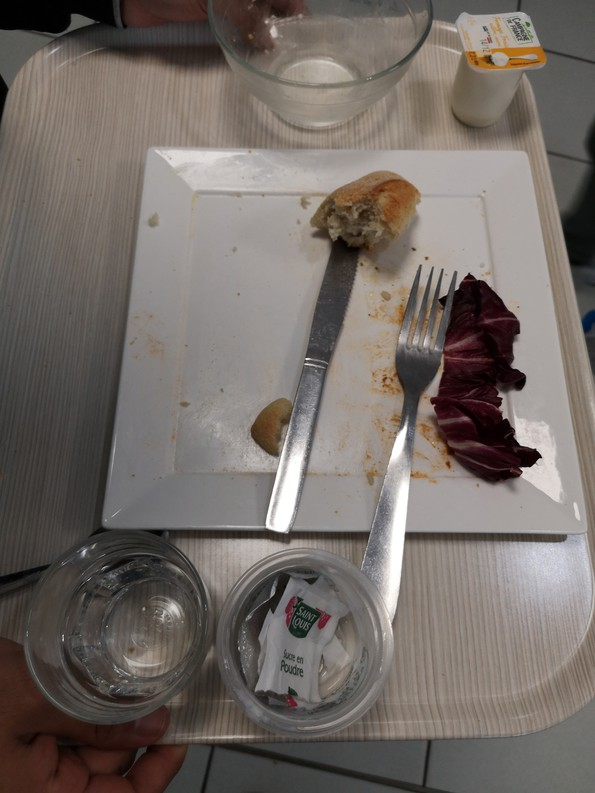orga: (444, 273, 541, 474), (302, 164, 427, 264)
trash: (221, 550, 397, 723), (448, 8, 546, 129)
